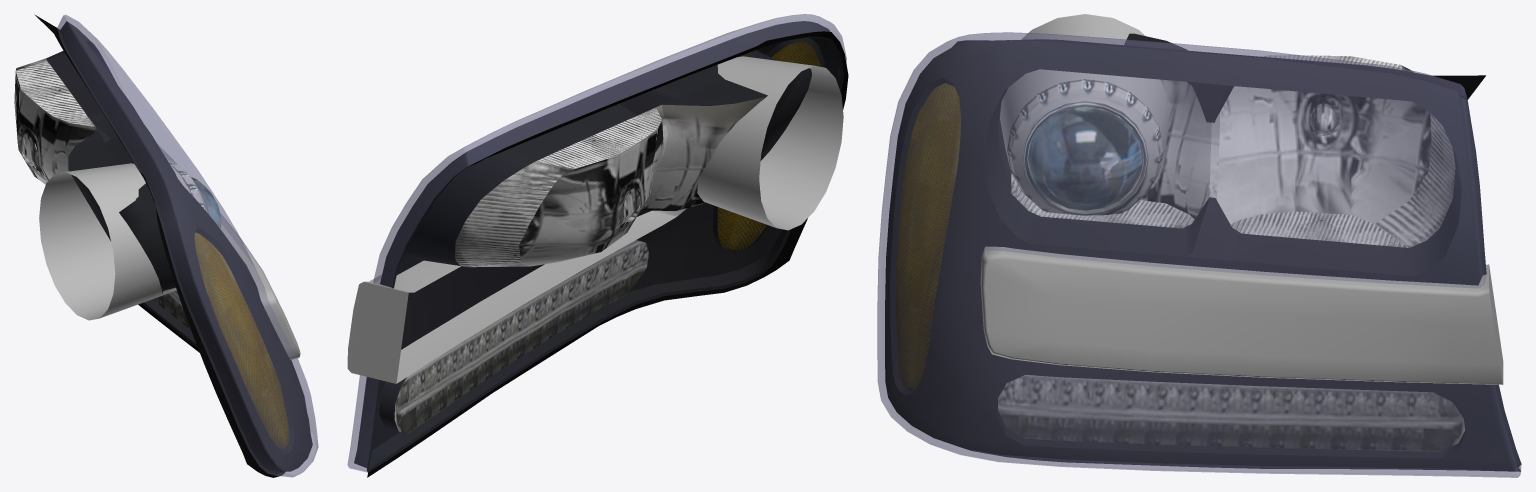
3 views of the same model, side by side, from view 1: azimuth 30°, elevation 25°; view 2: azimuth 150°, elevation 25°; view 3: azimuth 270°, elevation 25° (orthographic). The views are drawn at different scales.
Parts seen in each view (by area): view 1: U843_9A_061B_R_U843_9A_061B_R_2_N, U843_9A_061B_R_U843_9A_061B_R_3_DTaSI, U843_9A_061B_R_U843_9A_061B_R_4_D, U843_9A_061B_R_1_DaS_U843_9A_061B_R; view 2: U843_9A_061B_R_U843_9A_061B_R_2_N, U843_9A_061B_R_U843_9A_061B_R_3_DTaSI, U843_9A_061B_R_1_DaS_U843_9A_061B_R, U843_9A_061B_R_U843_9A_061B_R_4_D; view 3: U843_9A_061B_R_U843_9A_061B_R_3_DTaSI, U843_9A_061B_R_U843_9A_061B_R_2_N, U843_9A_061B_R_1_DaS_U843_9A_061B_R, U843_9A_061B_R_U843_9A_061B_R_4_D.
Boxes of the visible parts, x1,y1,x2,y2 form: U843_9A_061B_R_U843_9A_061B_R_2_N: (14,21,312,475); U843_9A_061B_R_U843_9A_061B_R_3_DTaSI: (57,15,318,477); U843_9A_061B_R_U843_9A_061B_R_4_D: (34,14,284,477); U843_9A_061B_R_1_DaS_U843_9A_061B_R: (158,145,300,359); U843_9A_061B_R_U843_9A_061B_R_2_N: (354,21,844,472); U843_9A_061B_R_U843_9A_061B_R_3_DTaSI: (347,14,846,472); U843_9A_061B_R_1_DaS_U843_9A_061B_R: (347,208,686,383); U843_9A_061B_R_U843_9A_061B_R_4_D: (367,31,848,477); U843_9A_061B_R_U843_9A_061B_R_3_DTaSI: (877,32,1521,477); U843_9A_061B_R_U843_9A_061B_R_2_N: (885,14,1521,471); U843_9A_061B_R_1_DaS_U843_9A_061B_R: (980,246,1503,384); U843_9A_061B_R_U843_9A_061B_R_4_D: (952,39,1520,471).
Size of the model in its own units: 20.47 by 25.22 by 40.9.
